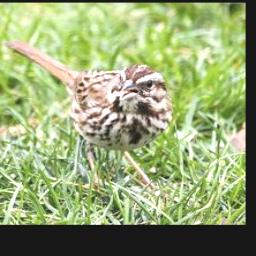Sparrow: (1, 37, 175, 180)
